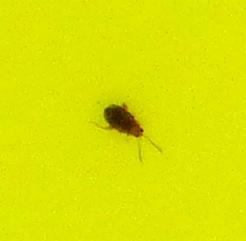Coleoptera: (100, 100, 146, 141)
